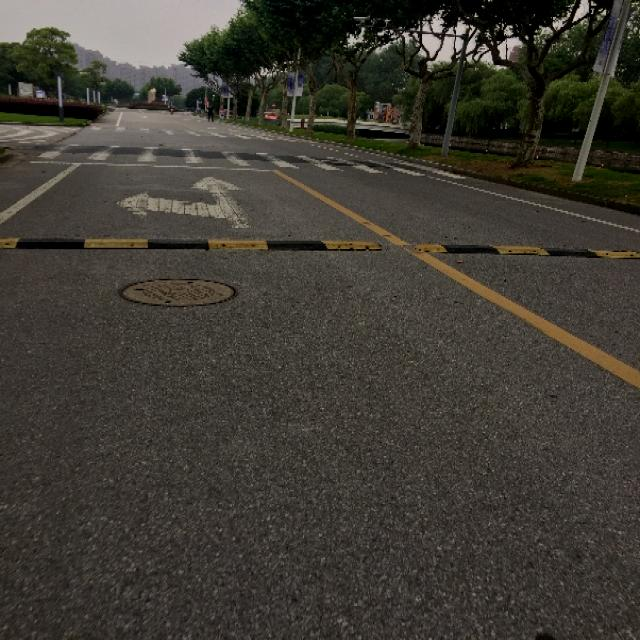Speed Bump: (0, 238, 639, 256)
